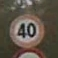limite 40: (6, 13, 46, 48)
